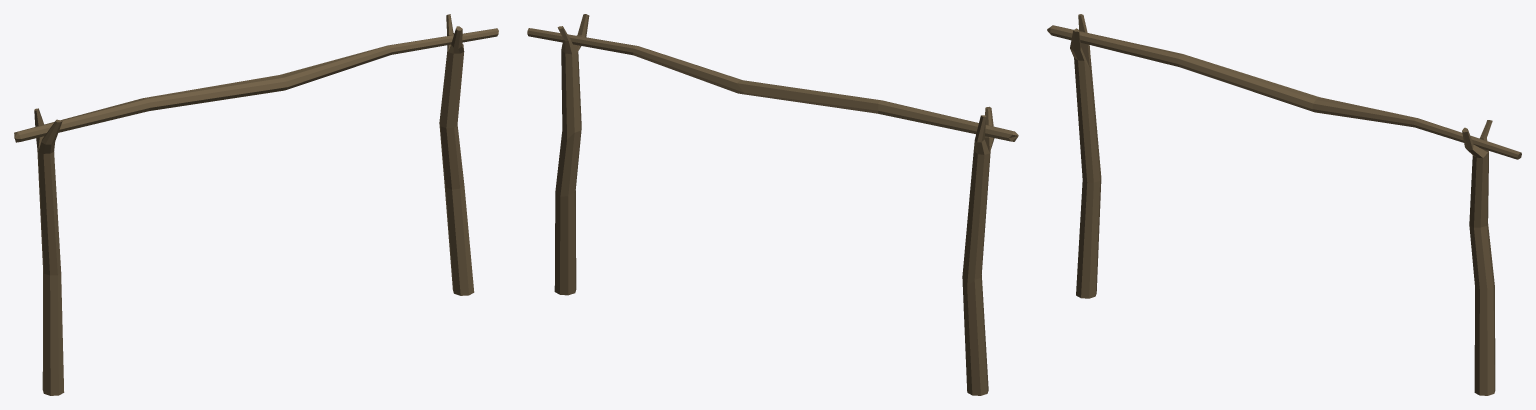
File: greek_hanging_rack.fbx
The picture shows the model from 3 angles, left to right: view 1: azimuth 30°, elevation 25°; view 2: azimuth 150°, elevation 25°; view 3: azimuth 330°, elevation 25°; orthographic projection. The views are drawn at different scales.
Parts seen in each view (by area): view 1: Cylinder.008; view 2: Cylinder.008; view 3: Cylinder.008.
Boxes of the visible parts, box(x1,y1,x2,y2) form: Cylinder.008: box(14, 14, 498, 395); Cylinder.008: box(527, 14, 1018, 395); Cylinder.008: box(1047, 14, 1521, 395).
Bounding box in the file's own units: 237 × 131 × 17.45.
